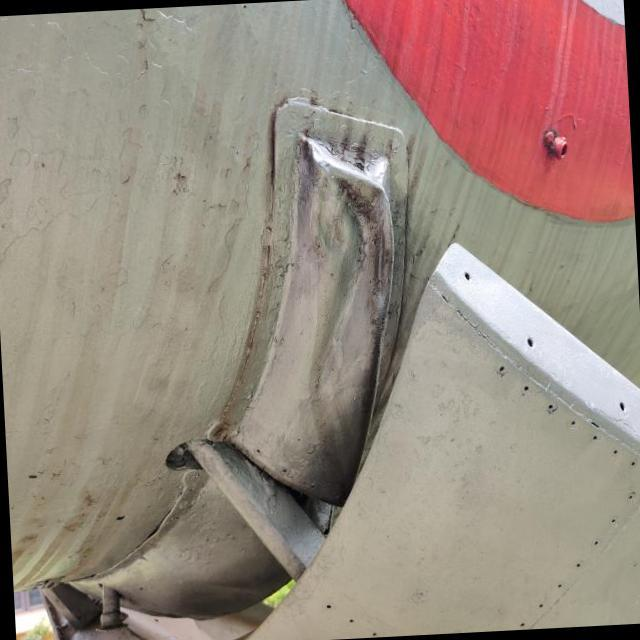Dent: (281, 120, 419, 318)
